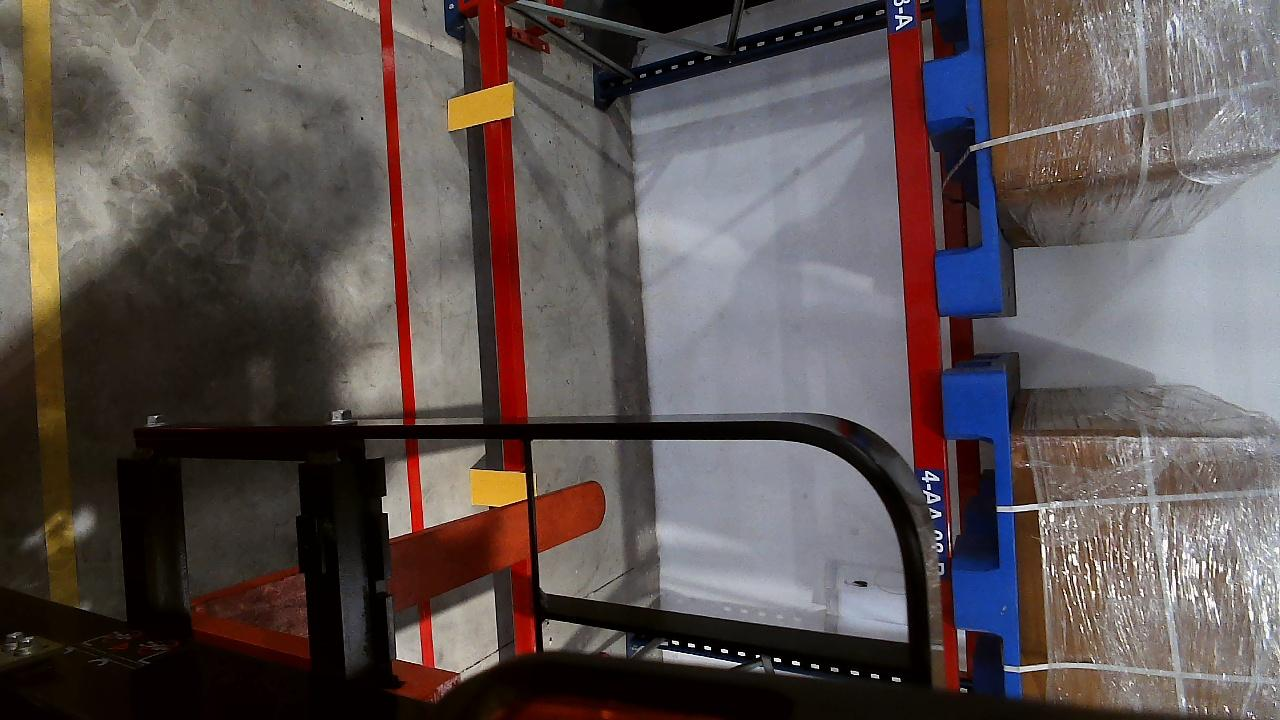h_rack: (883, 0, 954, 609), (472, 3, 525, 419)
orange_strip: (445, 83, 515, 129), (468, 469, 528, 507)
red_line: (378, 0, 417, 417)
small_pallet: (938, 362, 1028, 690), (917, 0, 1007, 309)
yellow_line: (17, 0, 75, 605)
